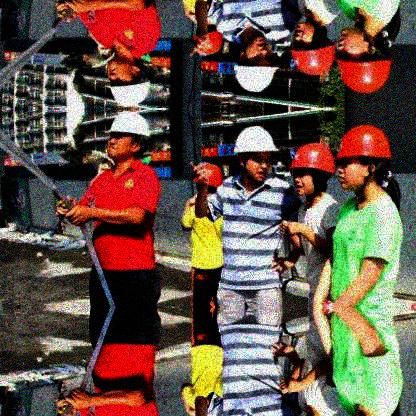helmet: (331, 123, 396, 194), (335, 26, 394, 94), (232, 37, 280, 97), (288, 142, 338, 198), (290, 22, 334, 81), (236, 126, 278, 181), (102, 59, 153, 104), (102, 113, 148, 162)
